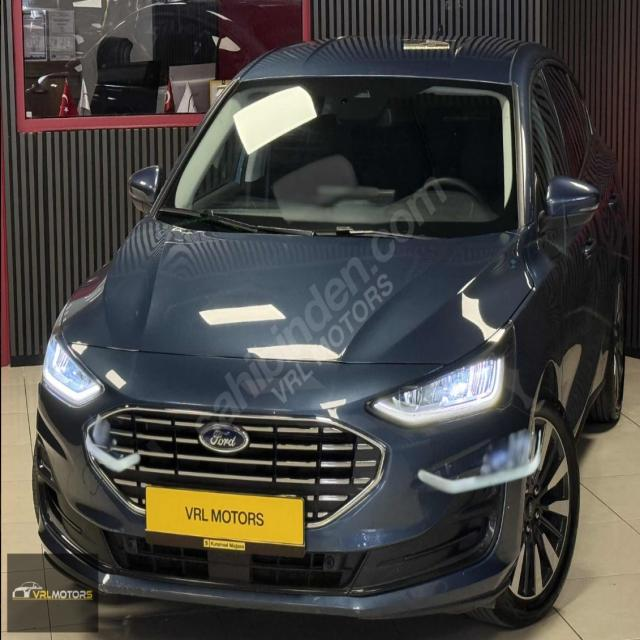ford: (198, 416, 250, 459)
